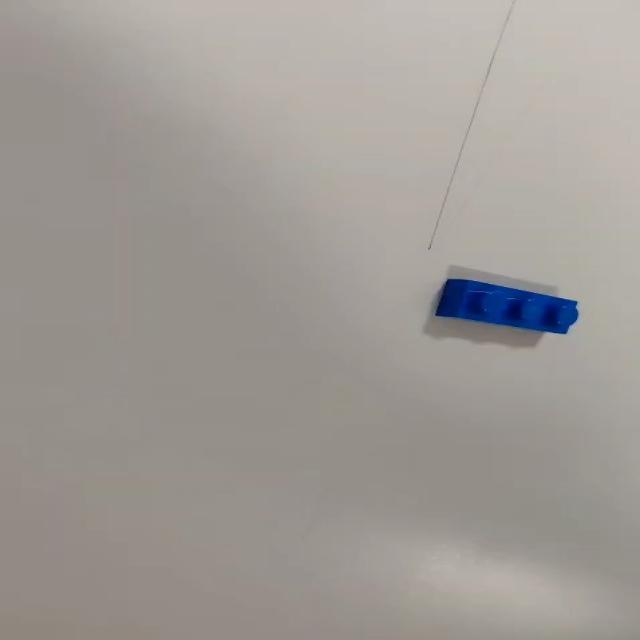C3x1x0: (430, 275, 584, 340)
